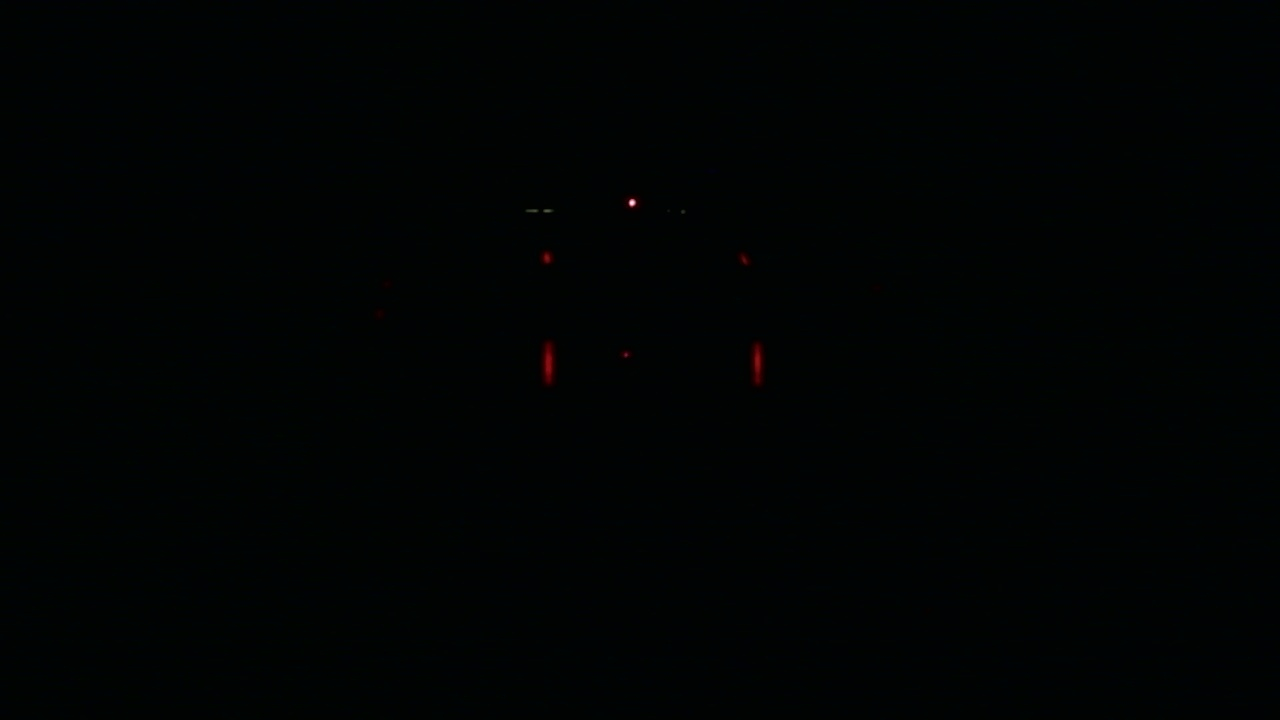lamp: (542, 340, 555, 386), (749, 336, 761, 384)
pair2: (542, 340, 763, 386)
